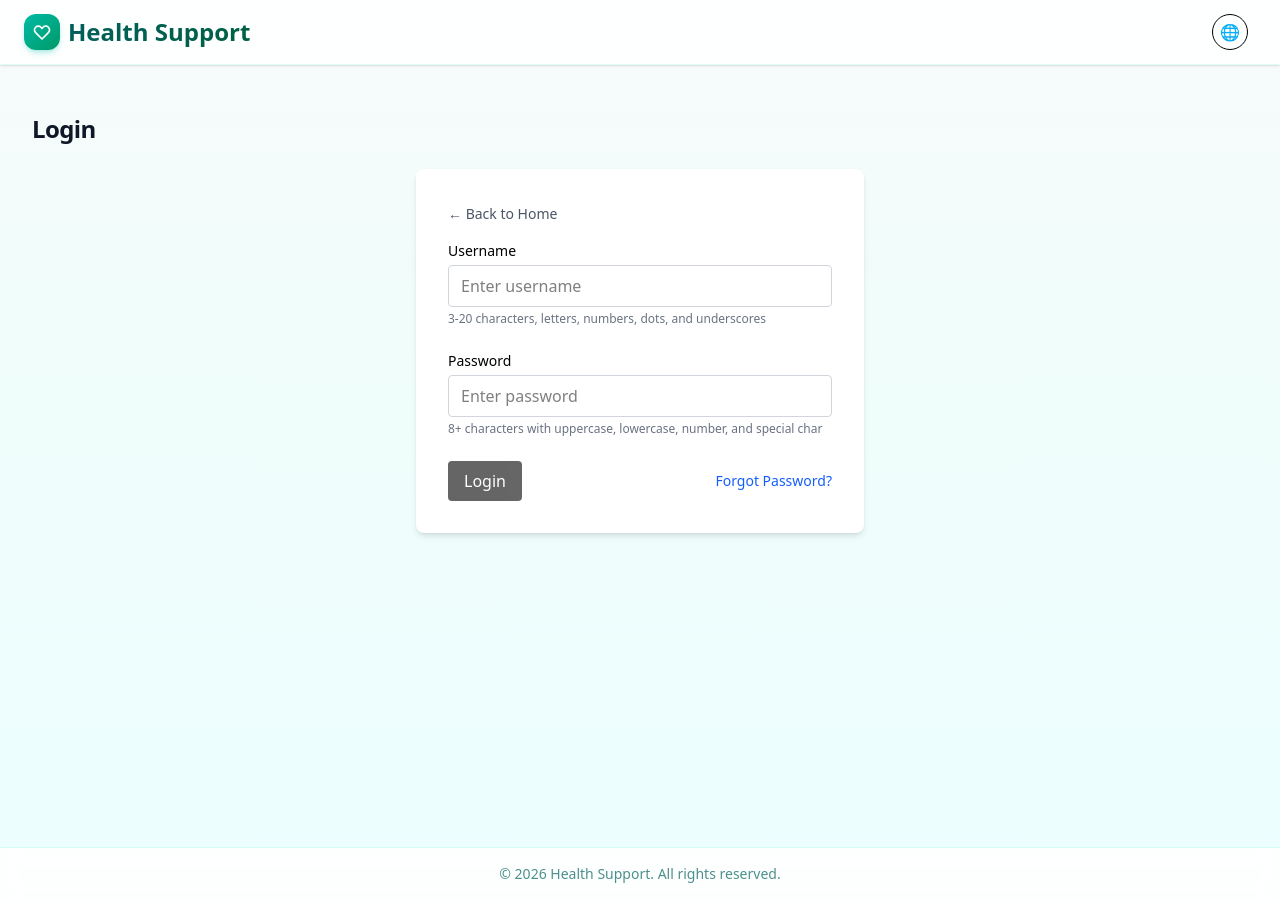
Test case: Login › Form Submission › shows error message on login failure
In the field labelled "Username": coordinates (640, 286) [448,265,832,307], type "john_doe"
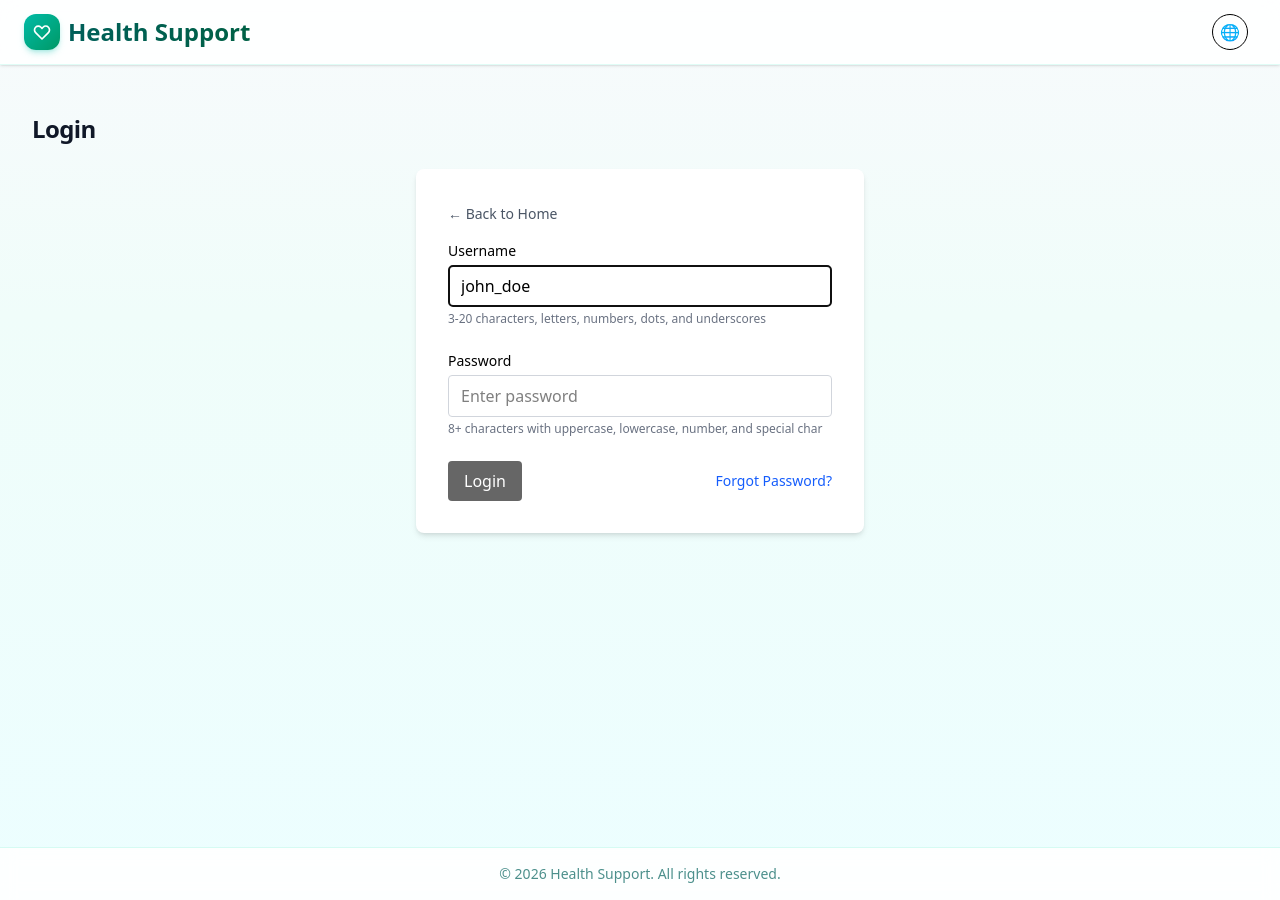
In the password field labelled "Password": coordinates (640, 396) [448,375,832,417], type "Password123"
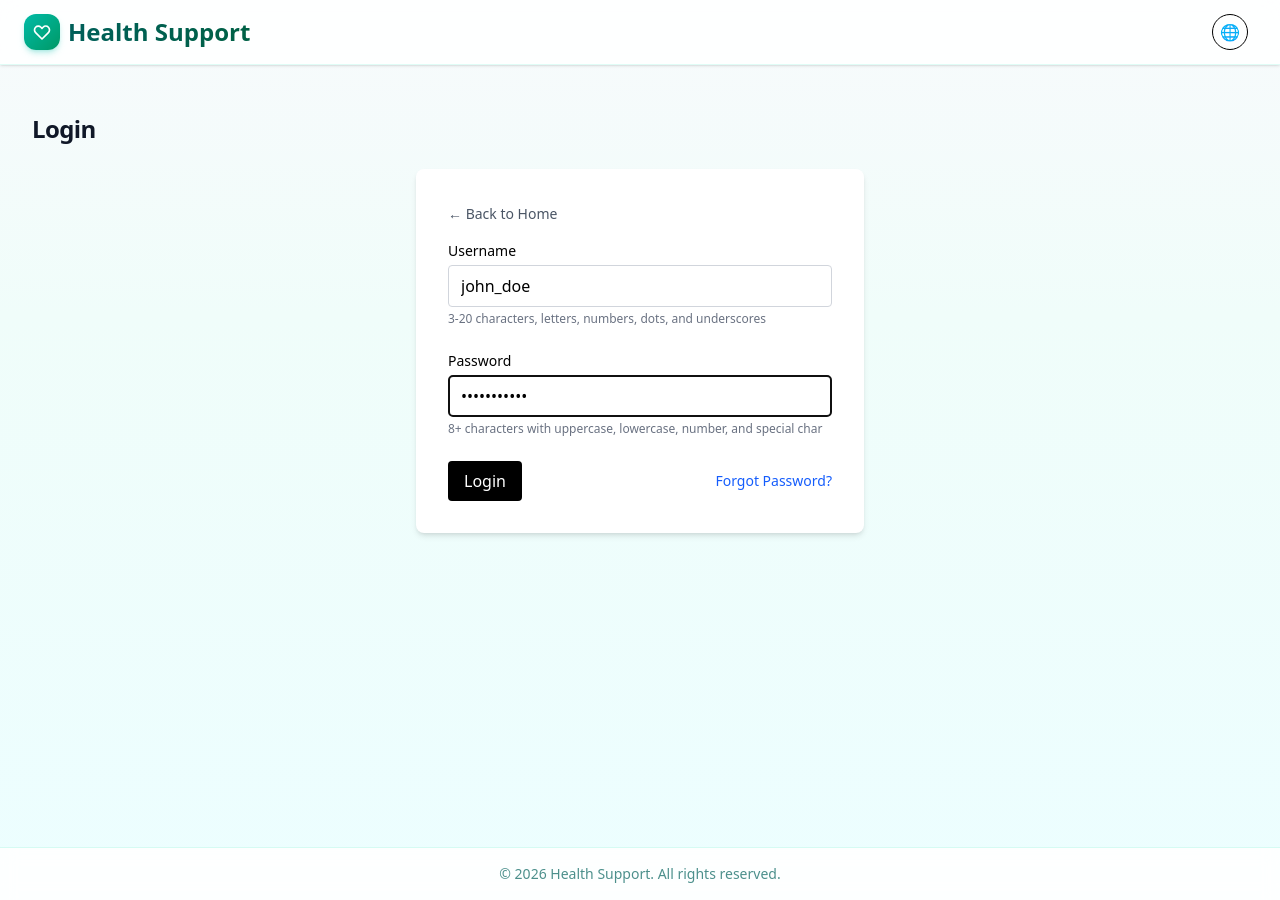
Click the button "Login": coordinates (485, 481) [448,461,522,501]
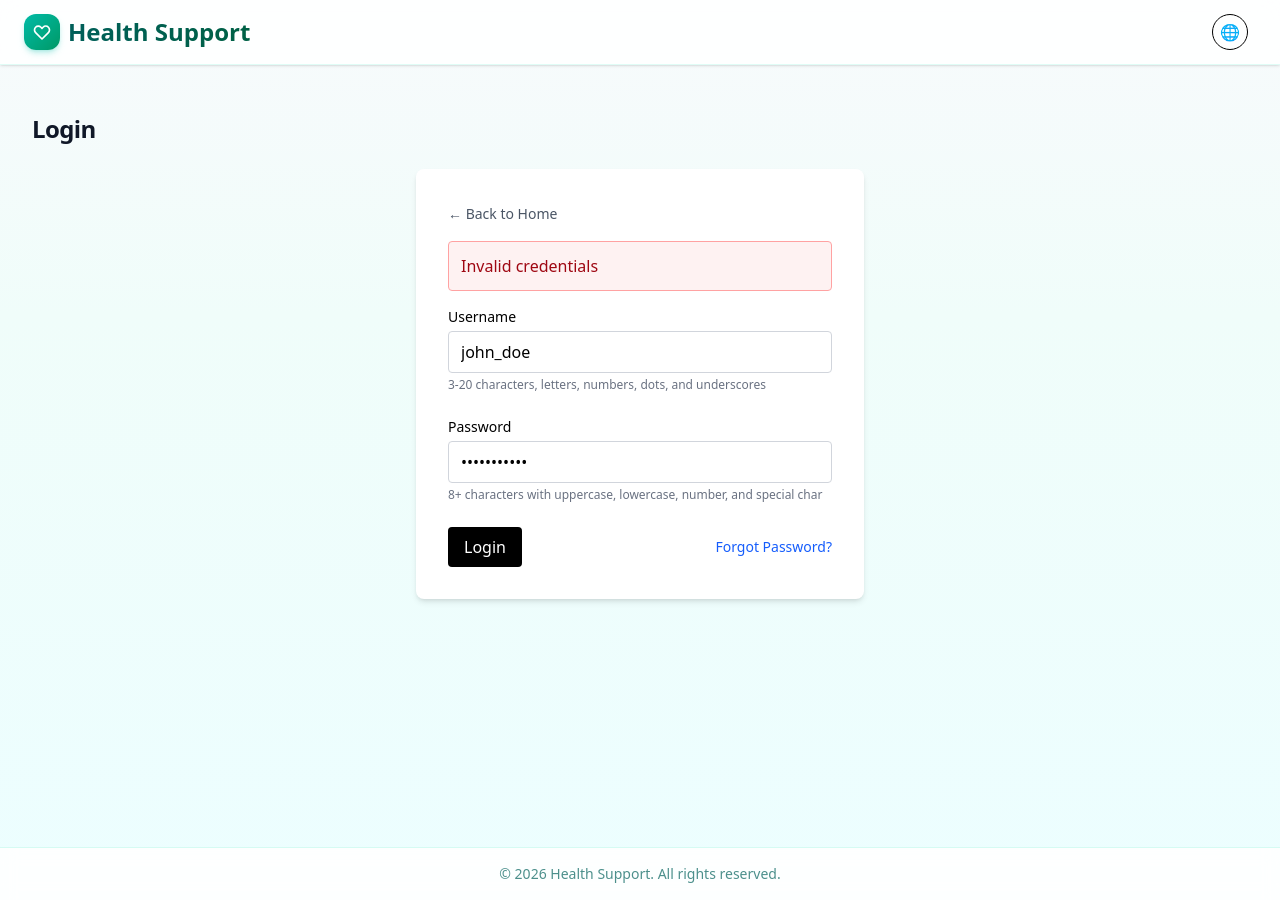
Result: the text "Invalid credentials" is shown at [448,241,832,291]
